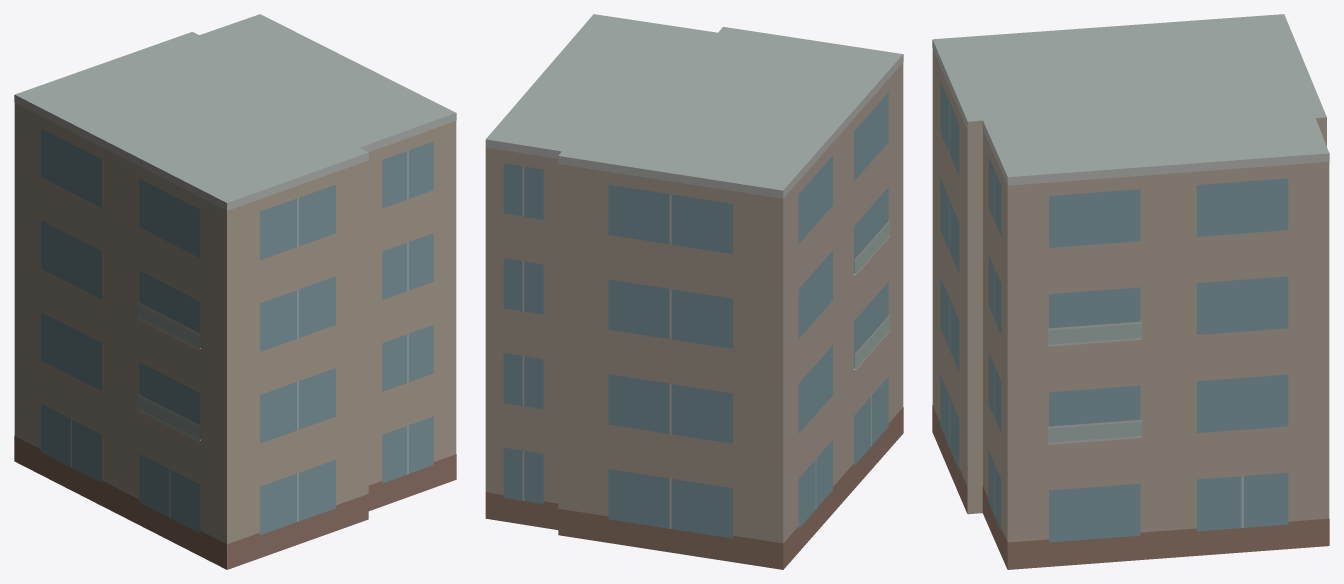
Rendered from survey-upis-32706268.glb.
3 views of the same model, side by side, from view 1: azimuth 30°, elevation 25°; view 2: azimuth 150°, elevation 25°; view 3: azimuth 270°, elevation 25° (orthographic). The views are drawn at different scales.
Visible parts, largest first — view 1: survey-upis-32706268.tmp; view 2: survey-upis-32706268.tmp; view 3: survey-upis-32706268.tmp.
Boxes of the visible parts, x1,y1,x2,y2 form: survey-upis-32706268.tmp: [14, 14, 456, 569]; survey-upis-32706268.tmp: [485, 14, 903, 569]; survey-upis-32706268.tmp: [932, 14, 1329, 569].
Bounding box in the file's own units: 10.18 × 11.4 × 10.46.
